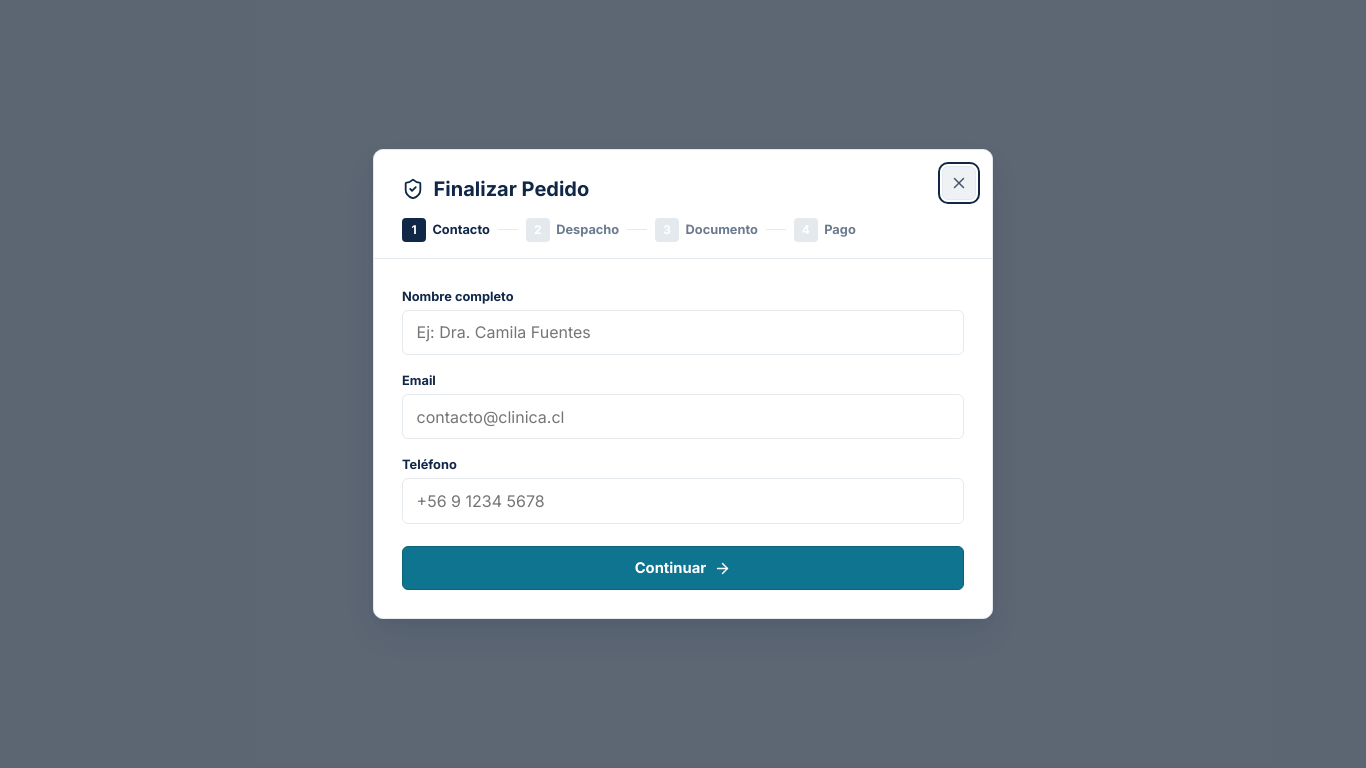
Test case: CheckoutModal Component › should format Chilean RUT as the user inputs characters
The image size is (1366, 768).
Step 1. Type "Dra. Andrea Morales" into the field with placeholder "Ej: Dra. Camila Fuentes" → (683, 332), box [402,310,964,355]
Step 2. Type "andrea@moralesdental.cl" into the field with placeholder "contacto@clinica.cl" → (683, 417), box [402,394,964,439]
Step 3. Type "+56 9 5555 4444" into the field with placeholder "+56 9 1234 5678" → (683, 501), box [402,478,964,524]
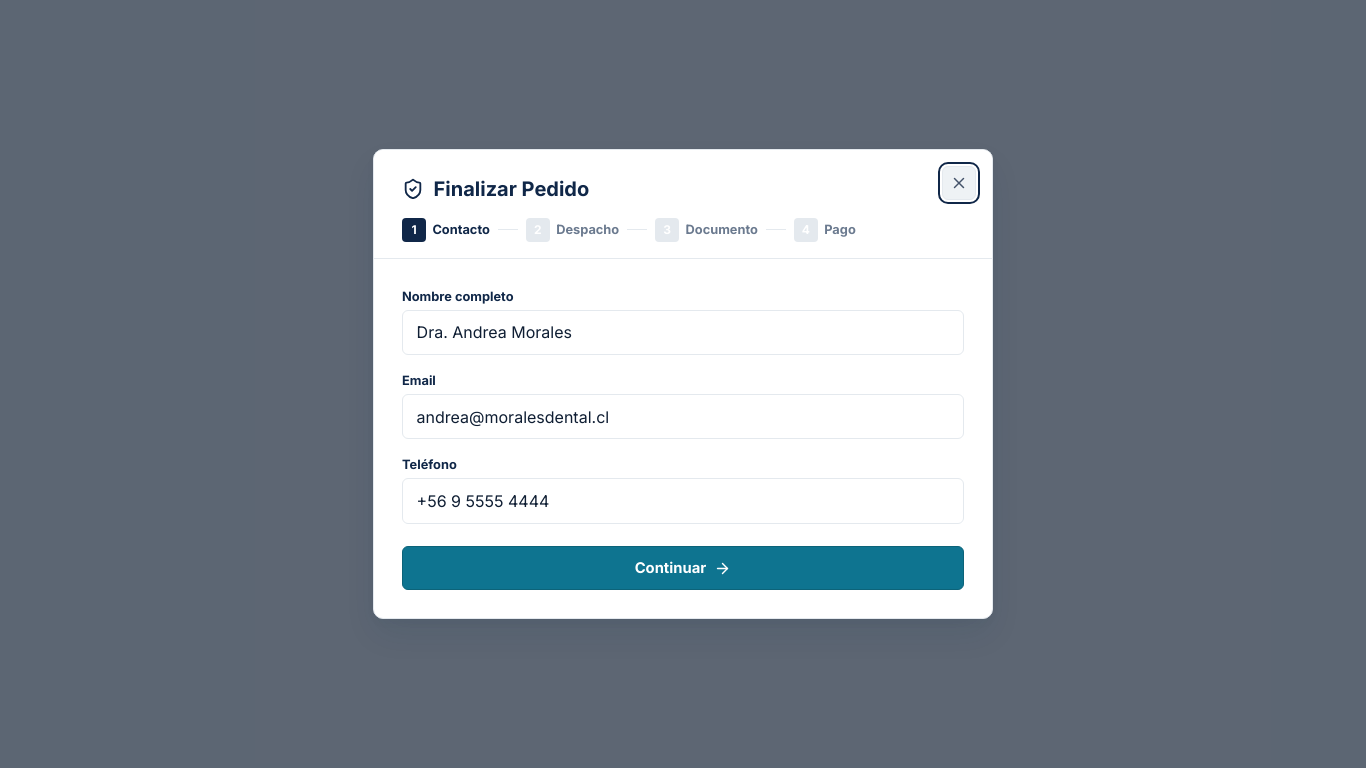
Step 4. Click the button "Continuar" → (683, 568), box [402,546,964,590]
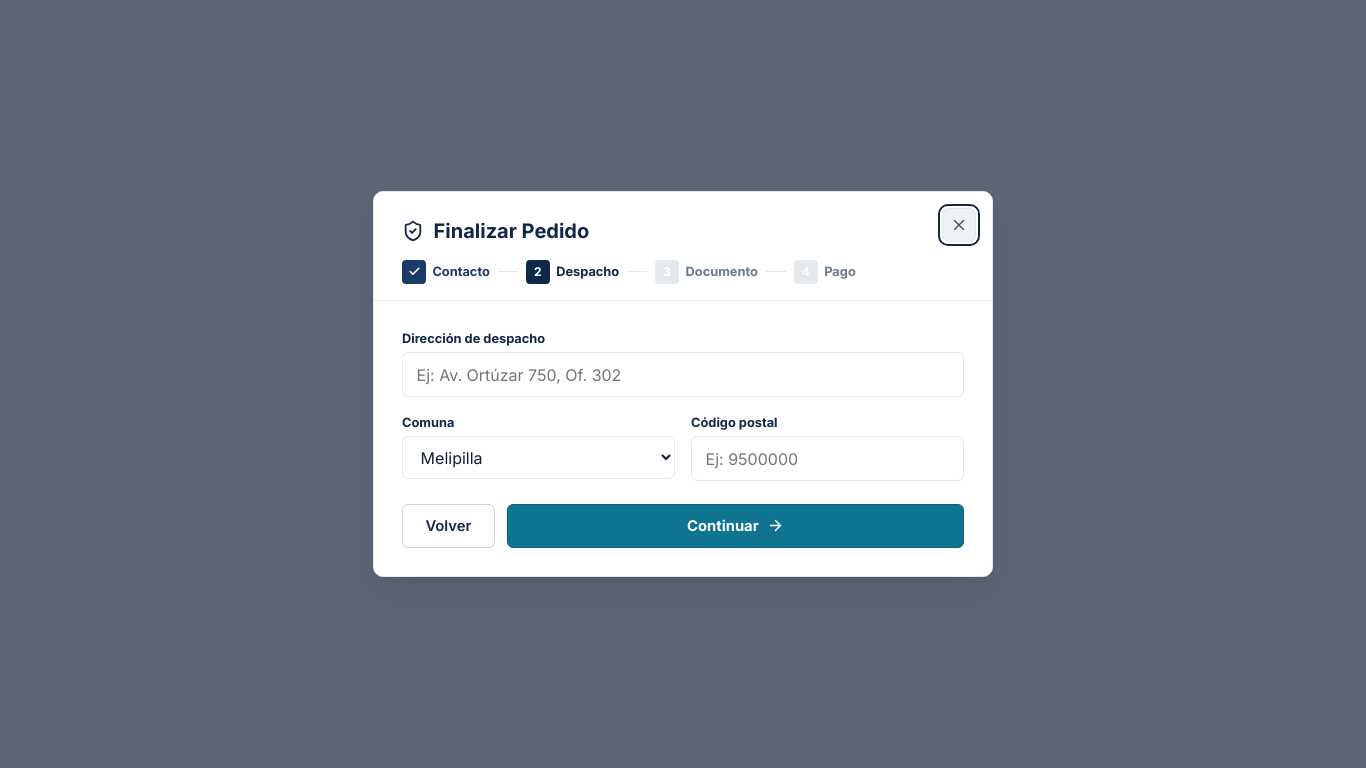
Step 5. Type "Av. Ortúzar 100" into the field with placeholder "Ej: Av. Ortúzar 750, Of. 302" → (683, 374), box [402,352,964,397]
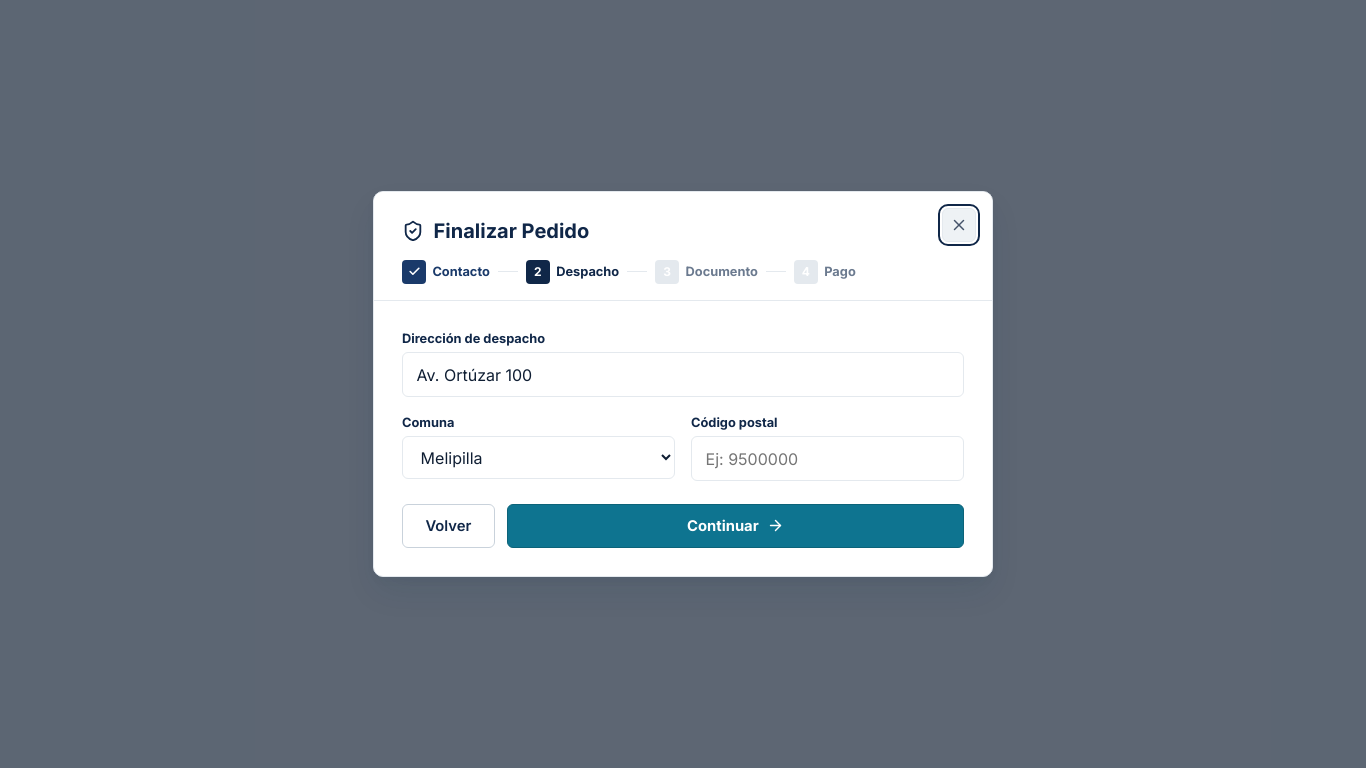
Step 6. Type "9500000" into the field with placeholder "Ej: 9500000" → (828, 459), box [691,436,964,482]
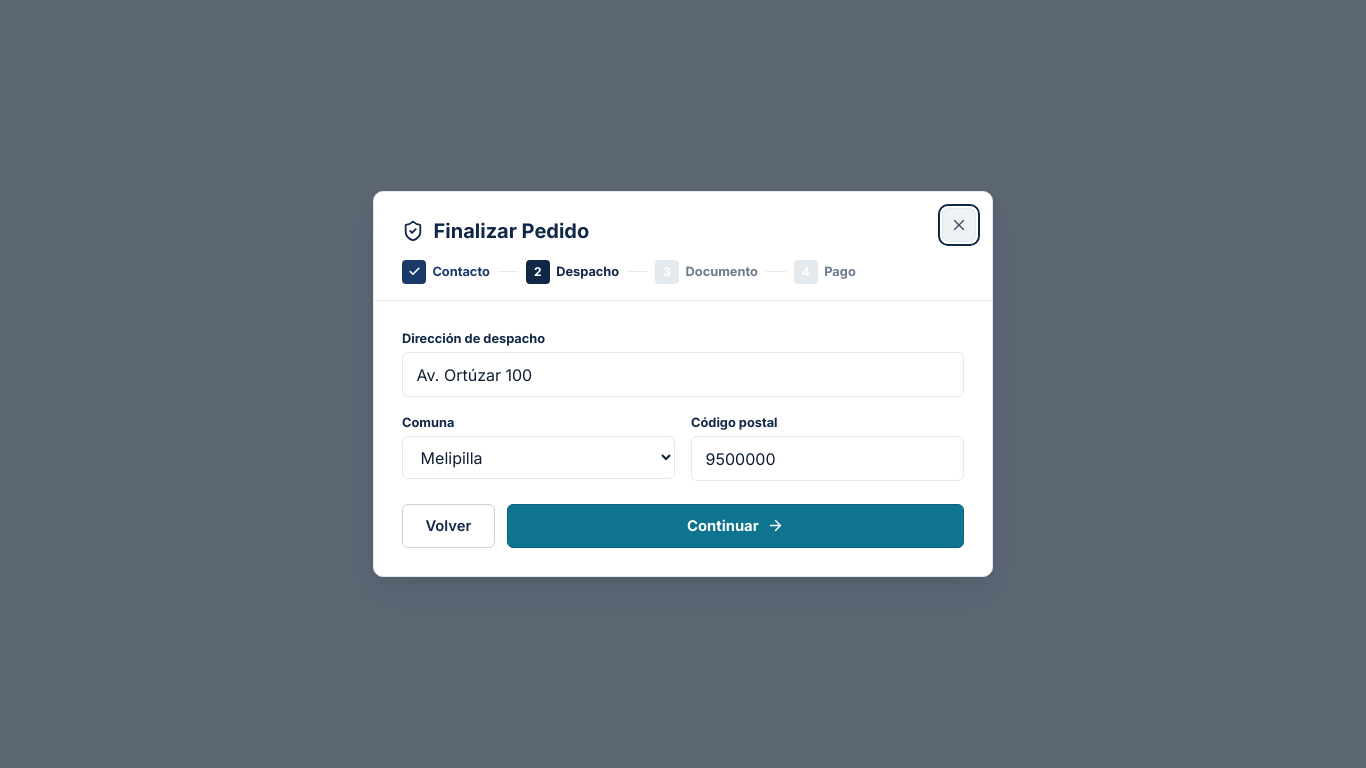
Step 7. Click the button "Continuar" → (735, 526), box [507,504,964,548]
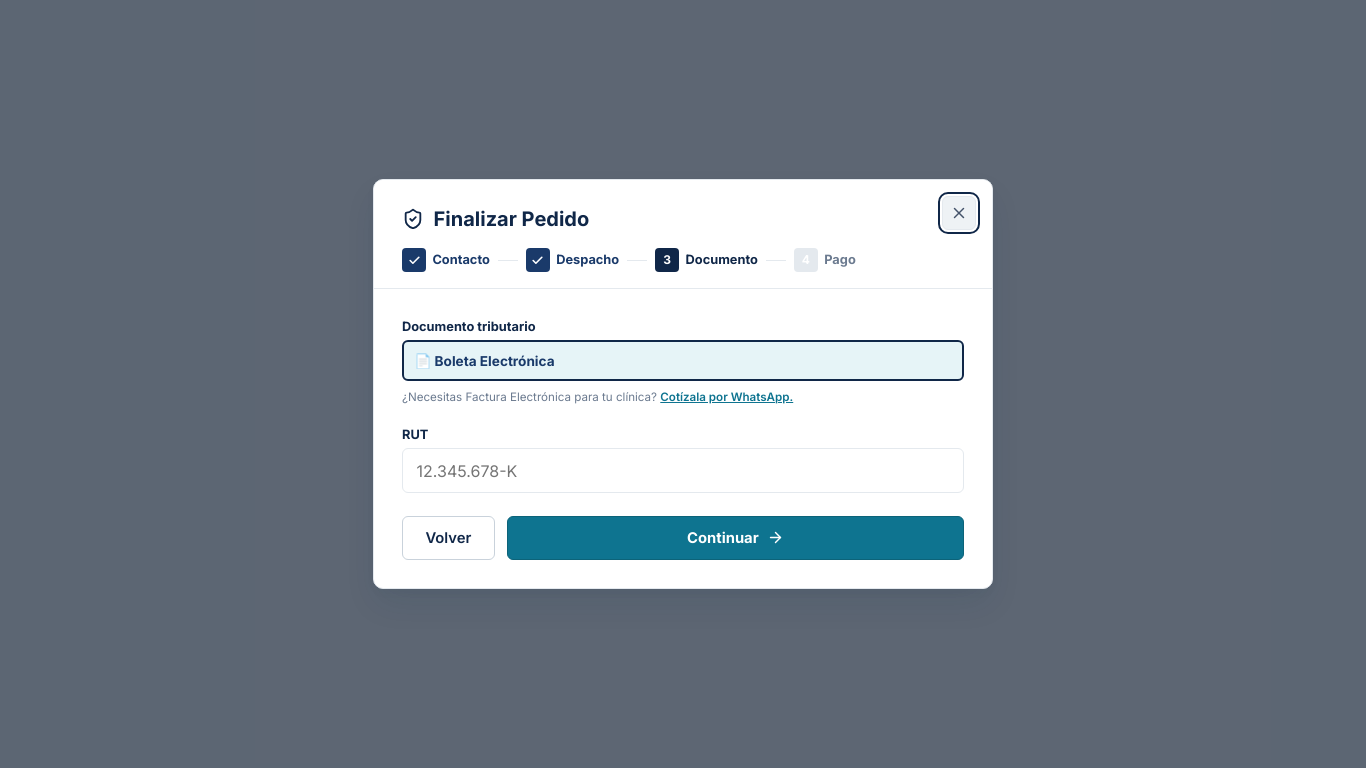
Step 8. Type "123456785" into the field with placeholder "12.345.678-K" → (683, 471), box [402,448,964,493]
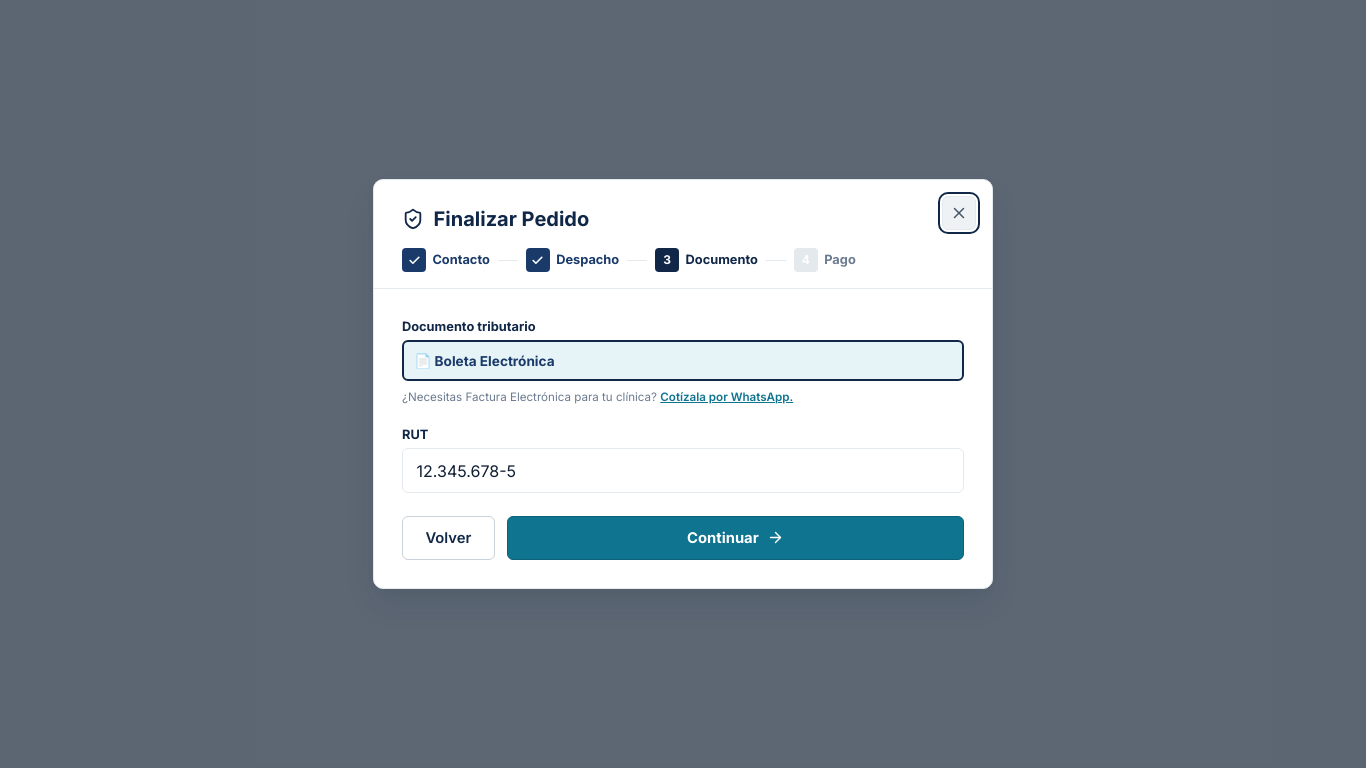
Expected: the field with placeholder "12.345.678-K" holds "12.345.678-5", [402,448,964,493]
